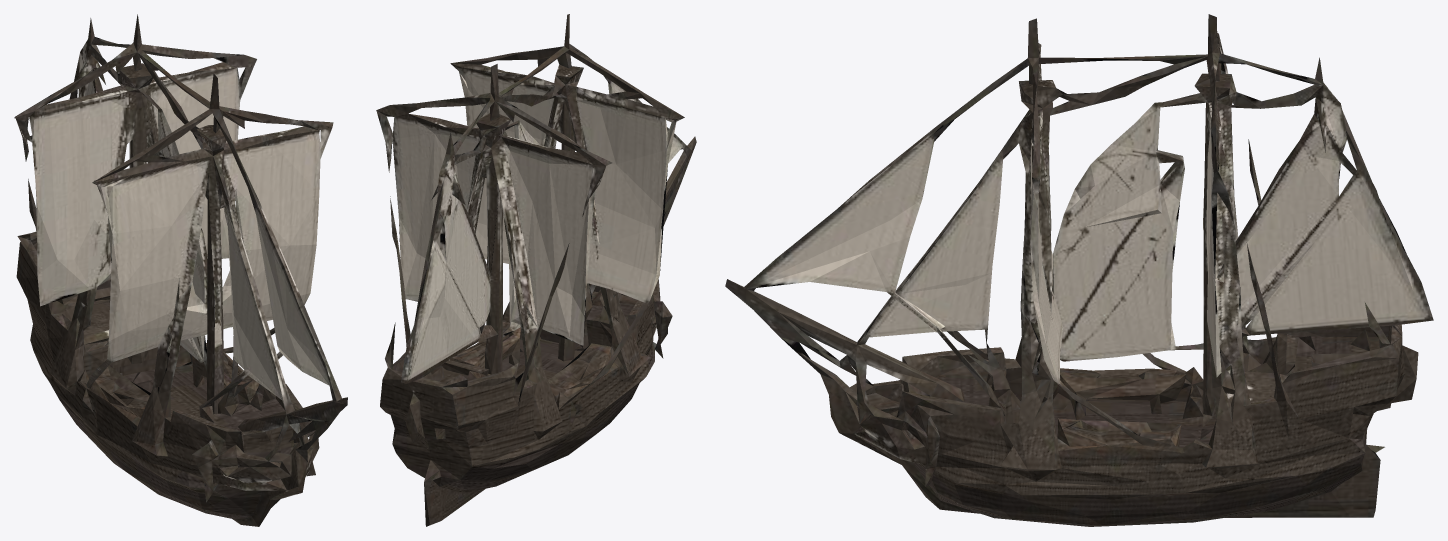
File: realistic-cc0.f77cec64a90b.sail.glb
3 views of the same model, side by side, from view 1: azimuth 30°, elevation 25°; view 2: azimuth 150°, elevation 25°; view 3: azimuth 270°, elevation 25° (orthographic). The views are drawn at different scales.
Visible parts, largest first — view 1: sail; view 2: sail; view 3: sail.
Boxes of the visible parts, <box> form: sail: <box>14,14,347,526</box>; sail: <box>376,14,696,526</box>; sail: <box>725,14,1433,526</box>.
Bounding box in the file's own units: 10.17 × 17.2 × 22.
1 material, 1 textured.
